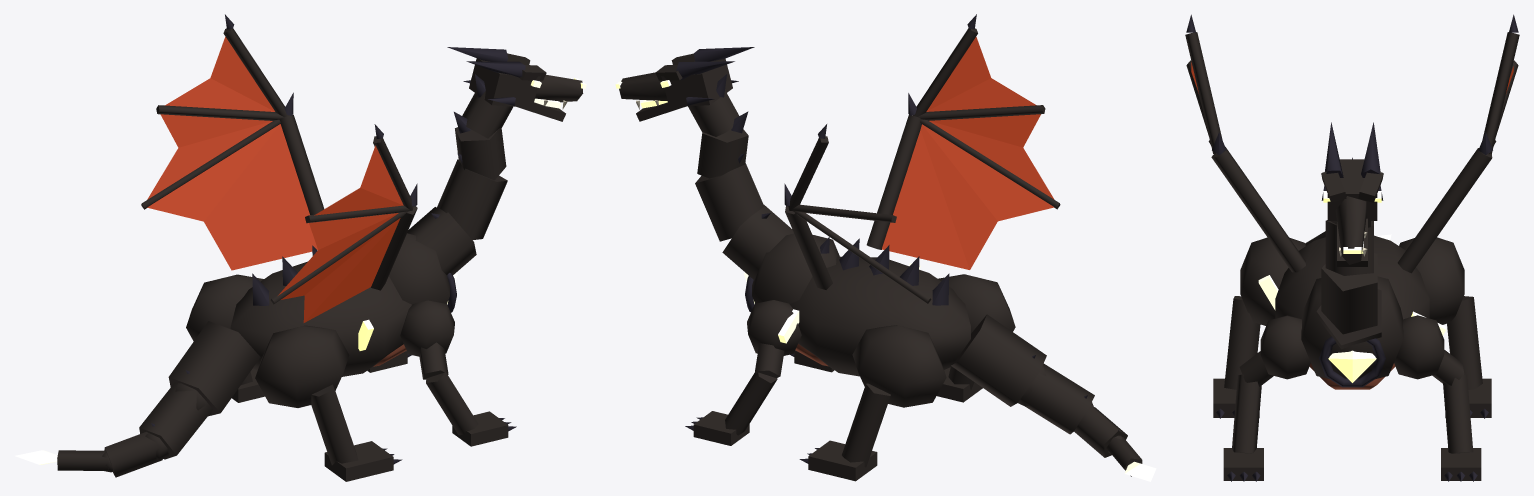
The model's file is enemy_boss_ash.glb.
3 views of the same model, side by side, from view 1: azimuth 30°, elevation 25°; view 2: azimuth 150°, elevation 25°; view 3: azimuth 270°, elevation 25° (orthographic). The views are drawn at different scales.
Visible parts, largest first — view 1: wing_r_membrane, tail, wing_l_membrane, torso, leg_l_thigh, neck_1, chest, neck, leg_r_thigh, arm_l_upper, leg_l_shin, neck_2 (+15 smaller); view 2: wing_l_membrane, torso, tail, leg_r_thigh, chest, neck_1, neck, leg_l_thigh, leg_r_shin, wing_l_arm, arm_r_upper, neck_2 (+17 smaller); view 3: torso, chest, neck_1, leg_r_thigh, leg_l_thigh, wing_l_arm, wing_r_arm, arm_l_upper, arm_r_upper, leg_r_shin, leg_l_shin, arm_r_fore (+21 smaller).
Part boxes in pixels (bbox=[...]): wing_r_membrane: bbox=[147, 37, 317, 270]; tail: bbox=[57, 321, 260, 477]; wing_l_membrane: bbox=[278, 145, 403, 322]; torso: bbox=[230, 261, 411, 376]; leg_l_thigh: bbox=[255, 325, 349, 407]; neck_1: bbox=[437, 159, 507, 240]; chest: bbox=[389, 233, 449, 304]; neck: bbox=[407, 207, 476, 274]; leg_r_thigh: bbox=[186, 274, 263, 341]; arm_l_upper: bbox=[400, 300, 454, 356]; leg_l_shin: bbox=[311, 384, 358, 465]; neck_2: bbox=[455, 127, 506, 180]; wing_l_membrane: bbox=[882, 37, 1054, 269]; torso: bbox=[790, 256, 970, 376]; tail: bbox=[951, 314, 1142, 476]; leg_r_thigh: bbox=[852, 325, 946, 407]; chest: bbox=[752, 233, 839, 304]; neck_1: bbox=[695, 162, 764, 241]; neck: bbox=[722, 205, 793, 280]; leg_l_thigh: bbox=[938, 274, 1015, 333]; leg_r_shin: bbox=[842, 383, 890, 467]; wing_l_arm: bbox=[866, 114, 921, 249]; arm_r_upper: bbox=[747, 300, 801, 355]; neck_2: bbox=[697, 129, 748, 178]; torso: bbox=[1275, 235, 1429, 319]; chest: bbox=[1301, 276, 1403, 378]; neck_1: bbox=[1321, 253, 1377, 334]; leg_r_thigh: bbox=[1399, 237, 1464, 324]; leg_l_thigh: bbox=[1240, 237, 1305, 325]; wing_l_arm: bbox=[1211, 147, 1305, 272]; wing_r_arm: bbox=[1397, 148, 1492, 273]; arm_l_upper: bbox=[1260, 315, 1310, 379]; arm_r_upper: bbox=[1394, 315, 1444, 379]; leg_r_shin: bbox=[1447, 296, 1482, 389]; leg_l_shin: bbox=[1224, 296, 1260, 389]; arm_r_fore: bbox=[1443, 374, 1473, 453].
Size of the model in its own units: 1.1 by 0.6918 by 0.5394.
